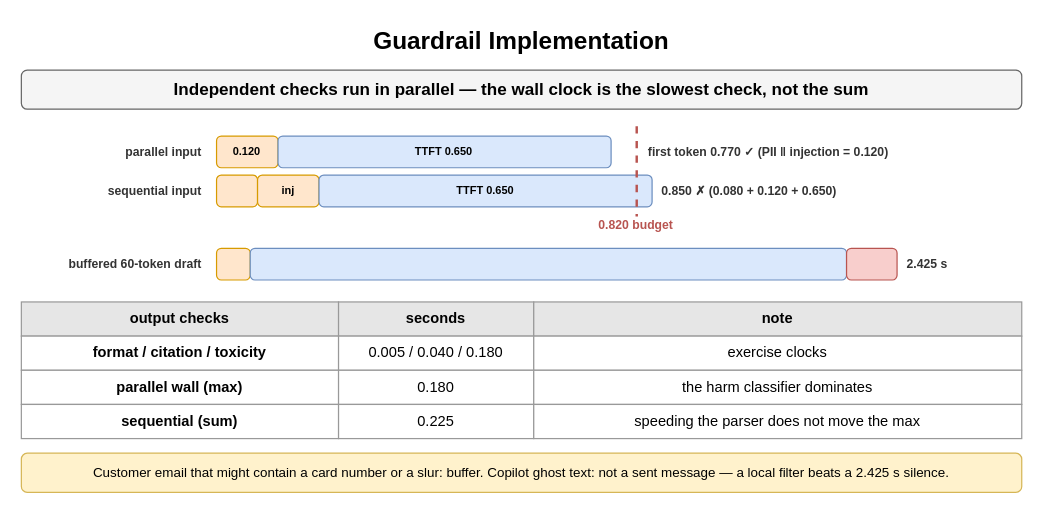
Image size: 1048x514. Some labels were removed from this diagram. Here are the shapes that lost their labels. From the top down, the centre of each, then its label:
At point 236,190: "PII".
At point 232,263: "in .12".
At point 548,263: "generation 2.125 s".
At point 871,263: "out .18".
